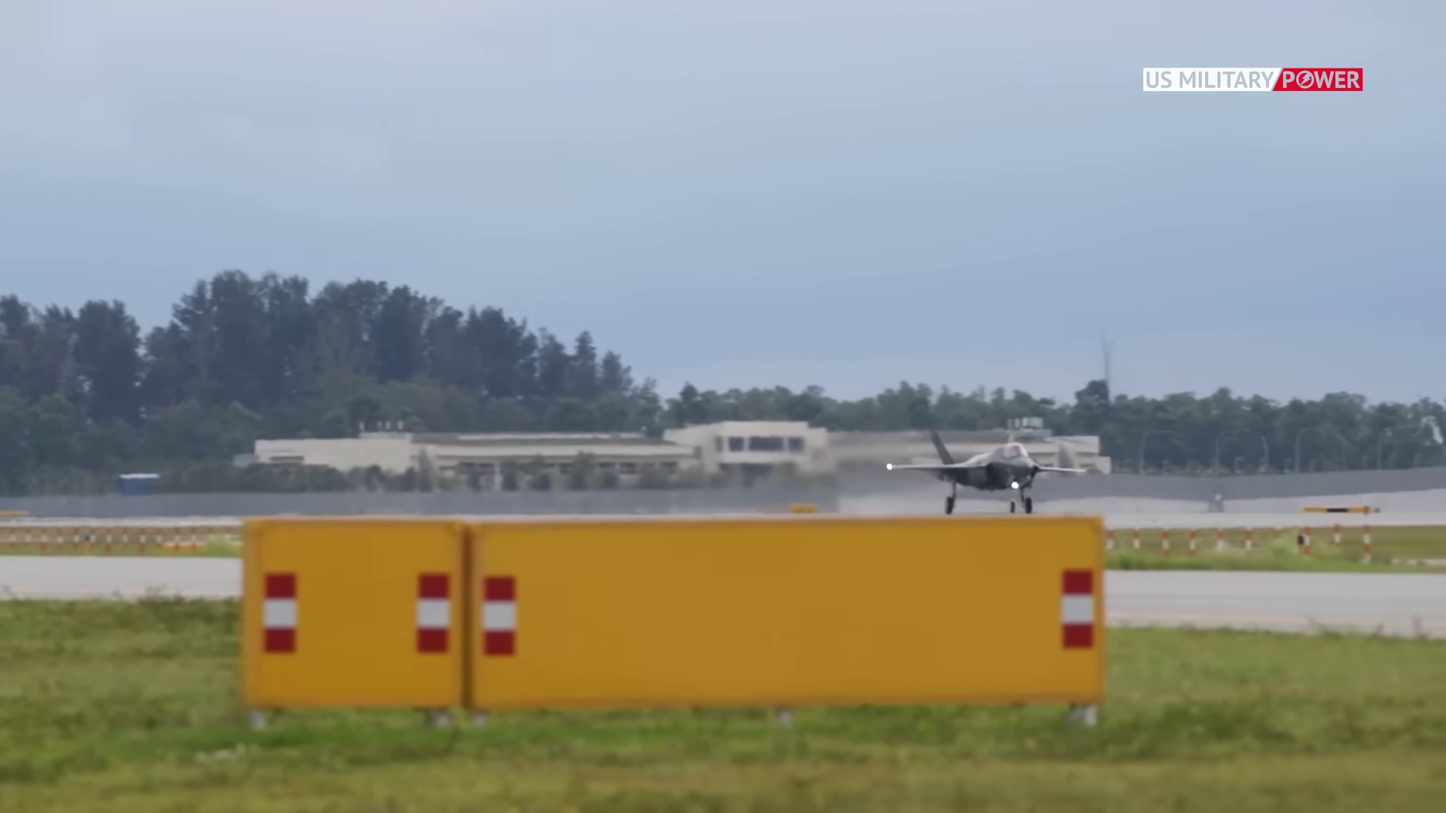F35: (889, 425, 1092, 517)
